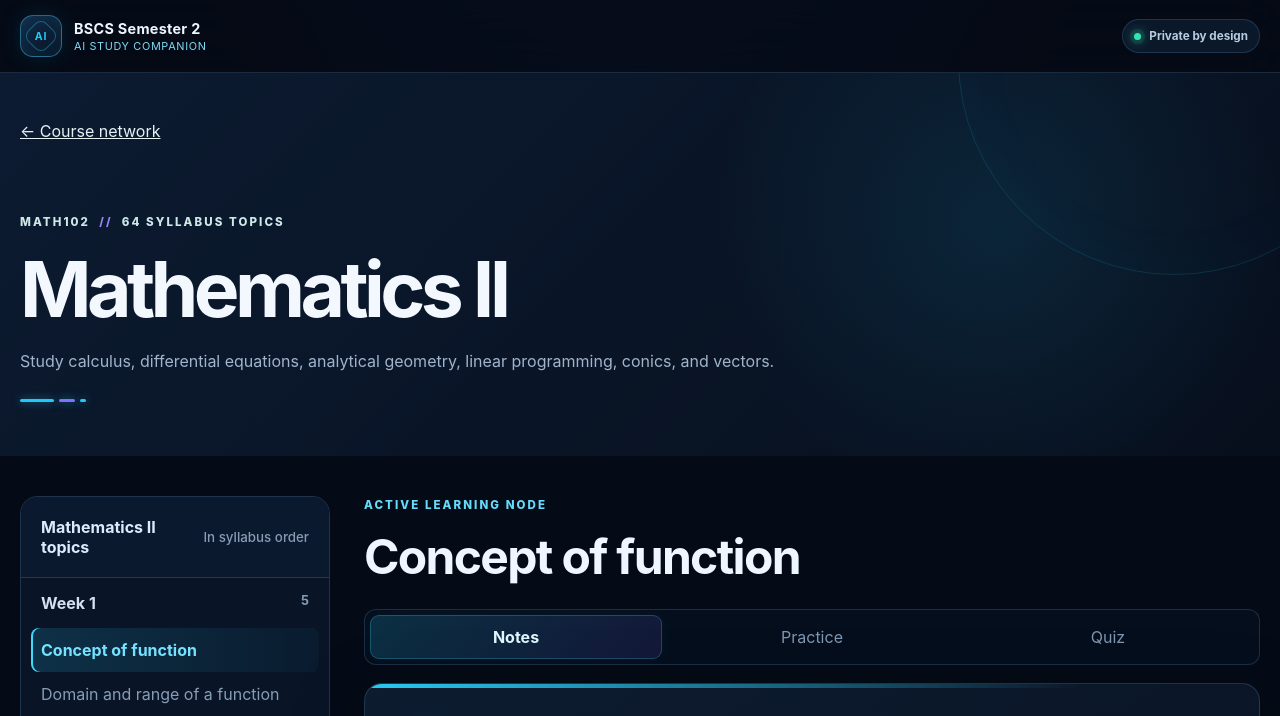
study interactions › reveals practice and scores a quiz locally
Click the tab "practice" at (812, 637), box [666,615,958,659]
(page scrolled)
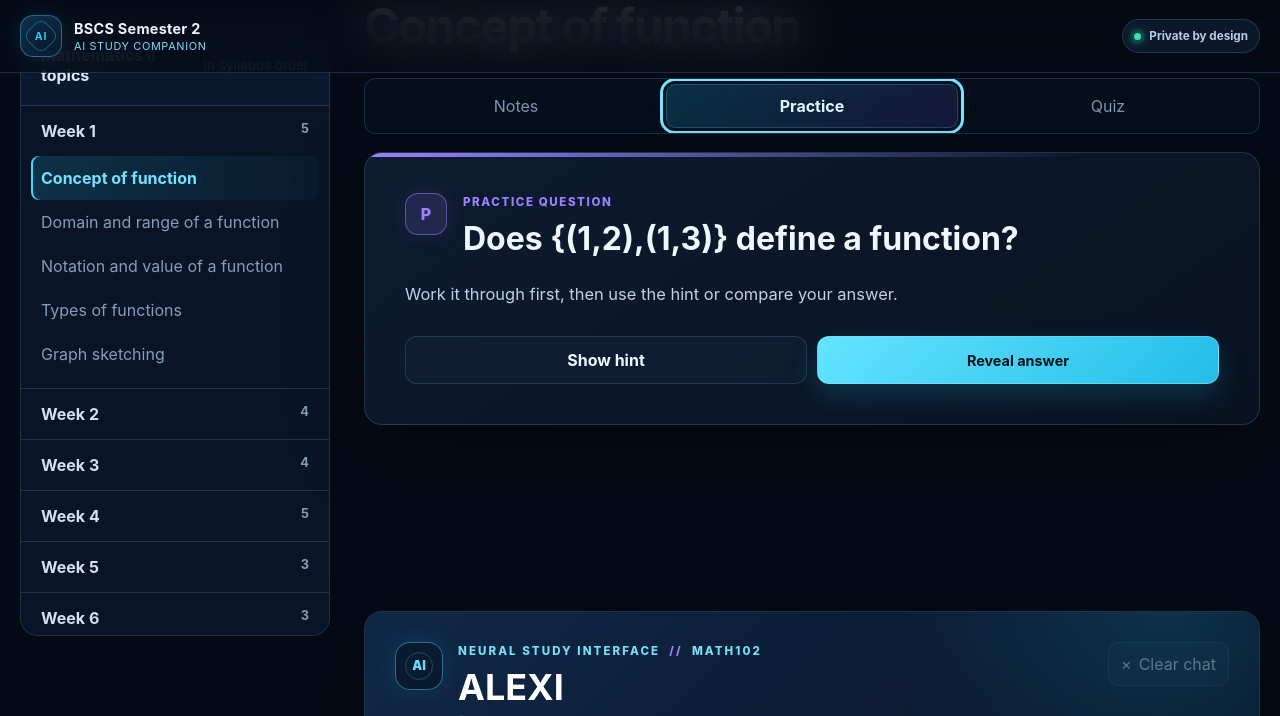
Click the button "Reveal answer" at (1018, 360), box [817,336,1219,384]
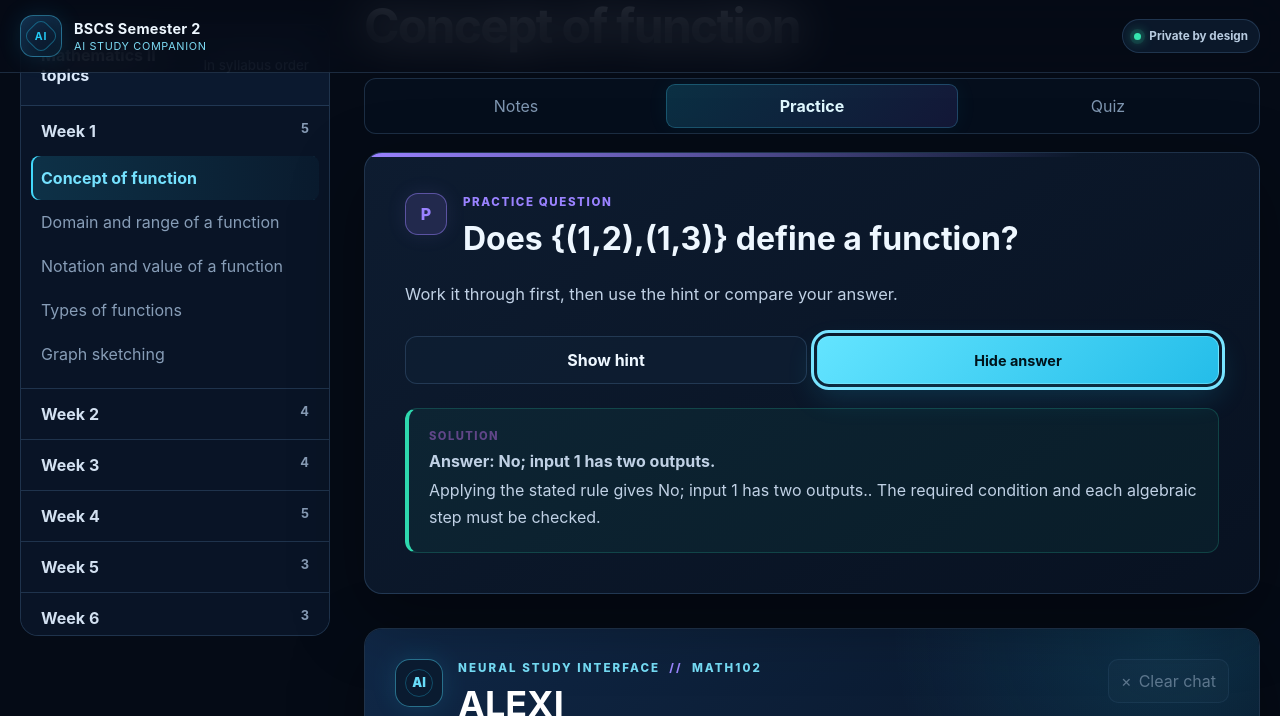
Check: the text "Answer: No; input 1 has two outputs." is shown, box [429,451,715,471]
Click the tab "quiz" at (1108, 106), box [962,84,1254,128]
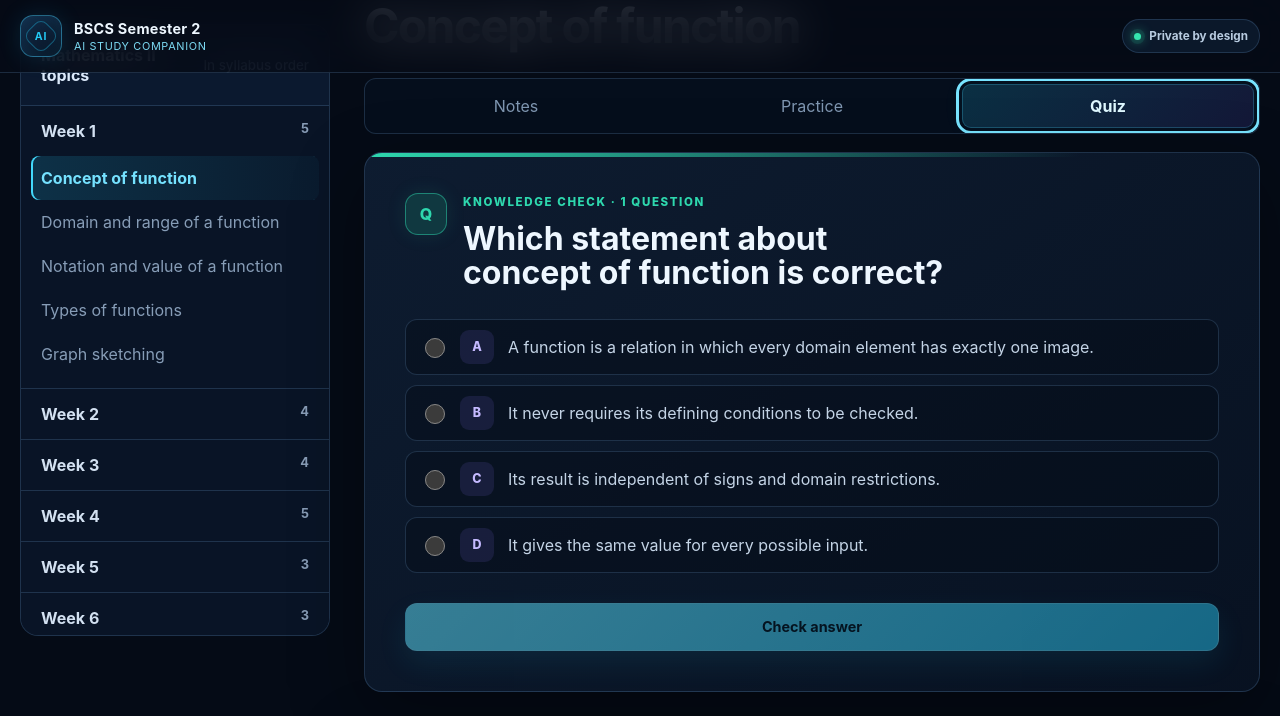
Click the radio button labelled "A function is a relation in which every domain element has exactly one image." at (435, 348), box [425,338,445,358]
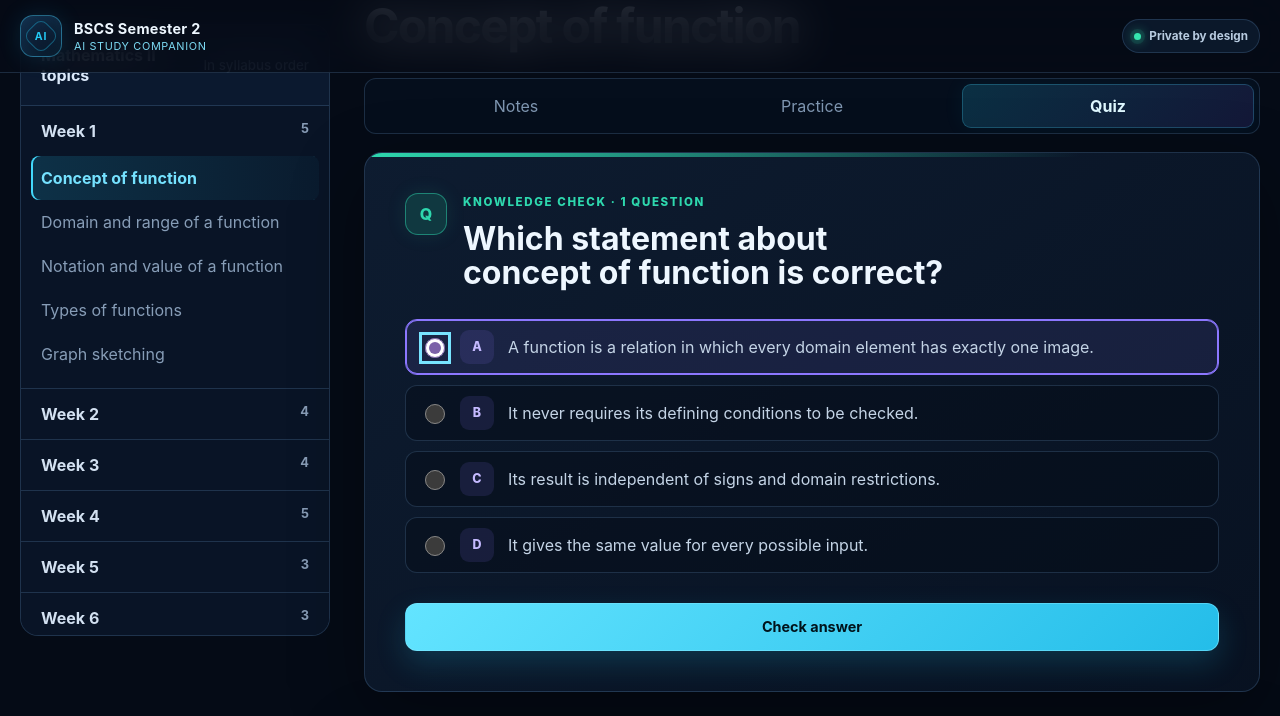
Click the button "Check answer" at (812, 627), box [405,603,1219,651]
(page scrolled)
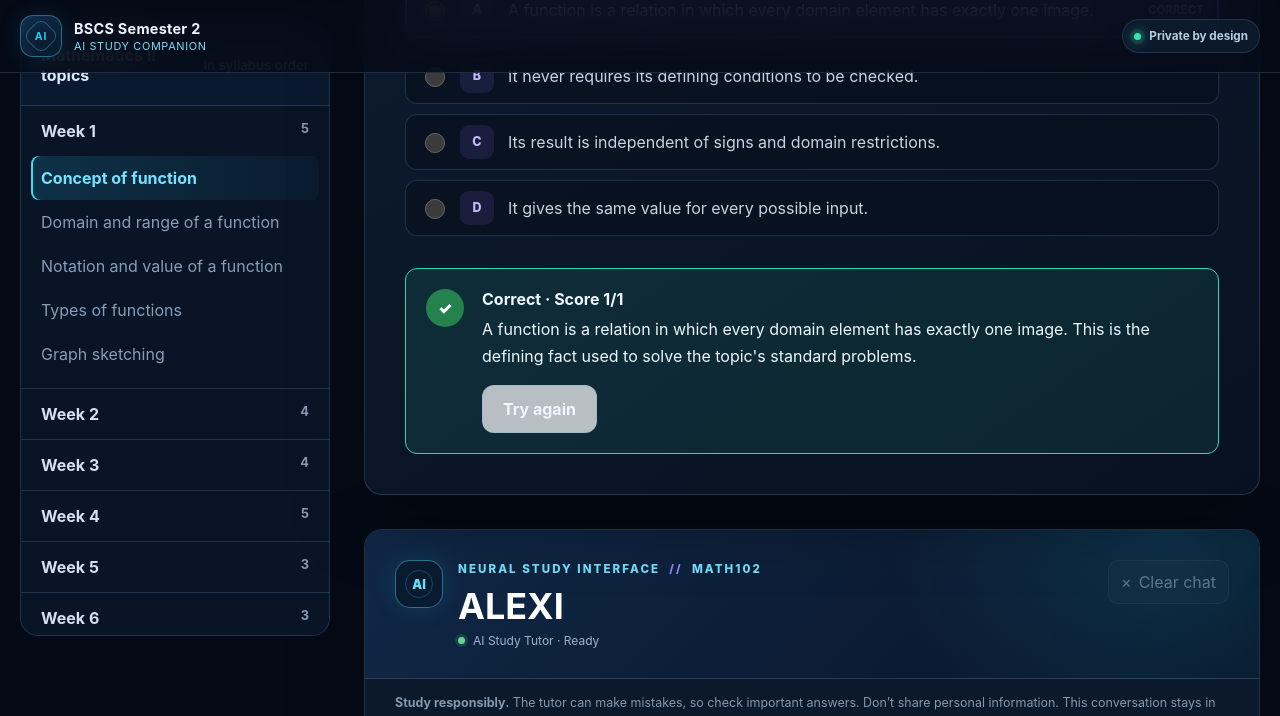
Check: the message shows "Correct · Score 1/1", box [482,289,623,309]
